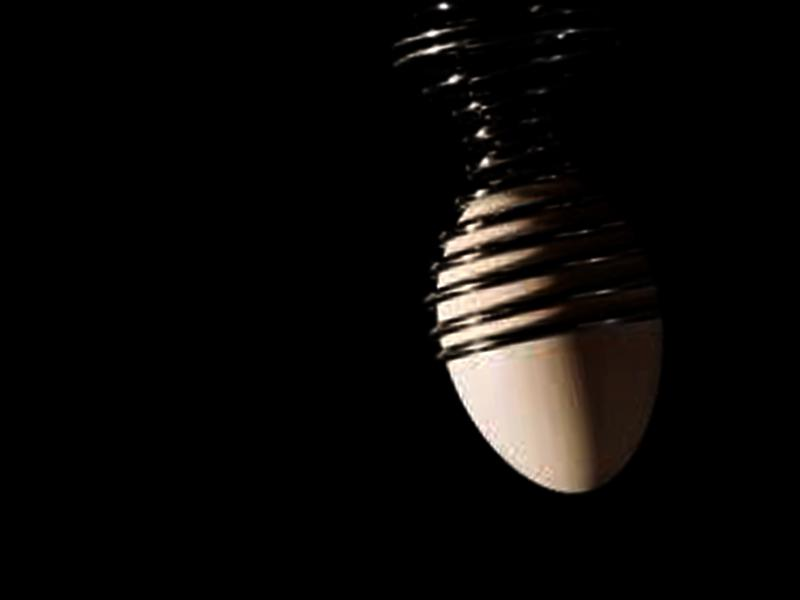Eggs: (416, 165, 685, 512)
